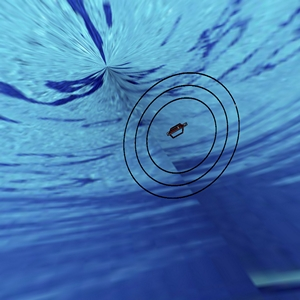circle: (108, 57, 254, 207)
submarine: (162, 116, 194, 148)
